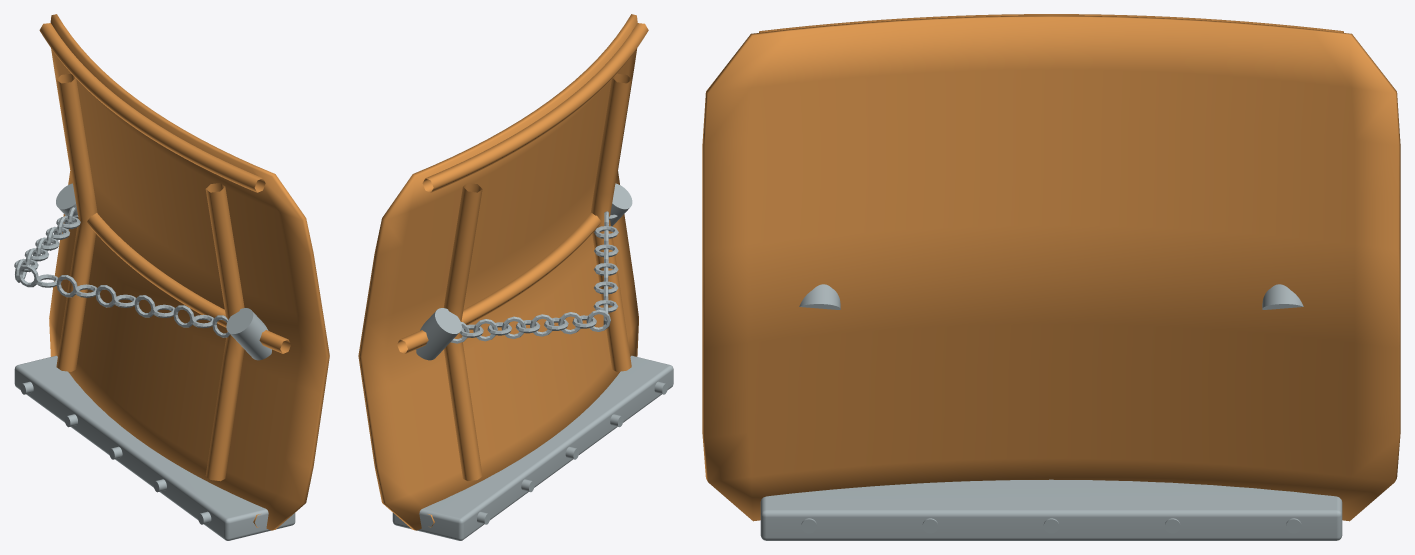
Rendered from trawl_door_starboard.glb.
The picture shows the model from 3 angles, left to right: view 1: azimuth 30°, elevation 25°; view 2: azimuth 150°, elevation 25°; view 3: azimuth 270°, elevation 25°; orthographic projection. The views are drawn at different scales.
Parts seen in each view (by area): view 1: trawl_door_starboard Warm white painted steel.001, trawl_door_starboard Fixed_Galvanized; view 2: trawl_door_starboard Warm white painted steel.001, trawl_door_starboard Fixed_Galvanized; view 3: trawl_door_starboard Warm white painted steel.001, trawl_door_starboard Fixed_Galvanized.
Part boxes in pixels (x1,y1,x2,y2): trawl_door_starboard Warm white painted steel.001: (39,14,329,530); trawl_door_starboard Fixed_Galvanized: (14,183,295,540); trawl_door_starboard Warm white painted steel.001: (358,14,648,530); trawl_door_starboard Fixed_Galvanized: (392,183,673,540); trawl_door_starboard Warm white painted steel.001: (702,14,1400,521); trawl_door_starboard Fixed_Galvanized: (760,284,1342,540).
Bounding box in the file's own units: 0.5083 × 1.12 × 1.44.
